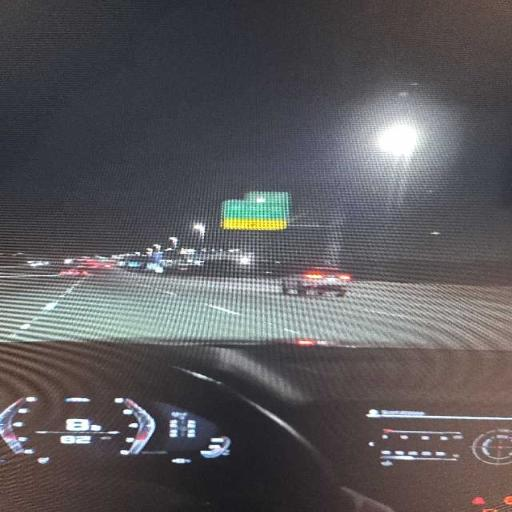car: (282, 267, 352, 296), (60, 269, 88, 276), (27, 260, 51, 267)
lane: (16, 270, 511, 348), (17, 274, 284, 340), (0, 274, 77, 340)
